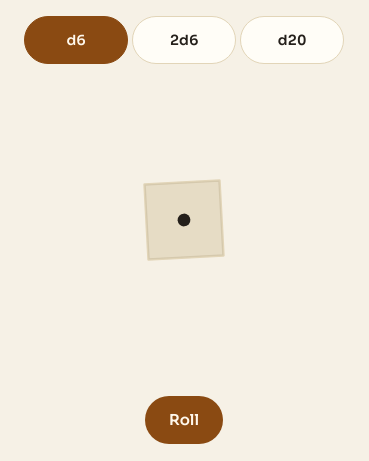
it: DiceScreen › rolls 2d6, showing a visible sum and one combined announcement
Click the radio button labelled "2d6" at (184, 40), box [132,16,236,64]
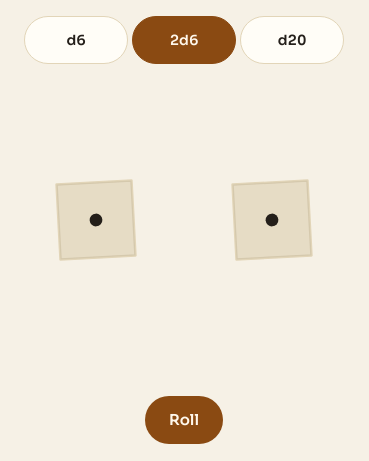
Check: the number of pictures is 2, box [16,140,176,300]; [192,140,352,300]
Click the button "Roll" at (184, 420), box [145,396,223,444]
Wait 900 ms
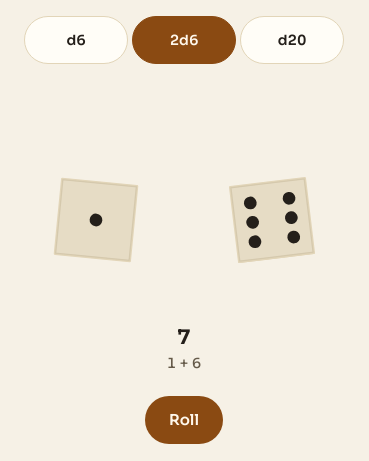
Check: the text "7" is shown, box [177,324,191,350]
Check: the text "1 + 6" is shown, box [167,352,201,374]
